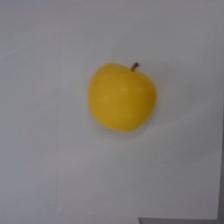yellow: (88, 63, 157, 133)
